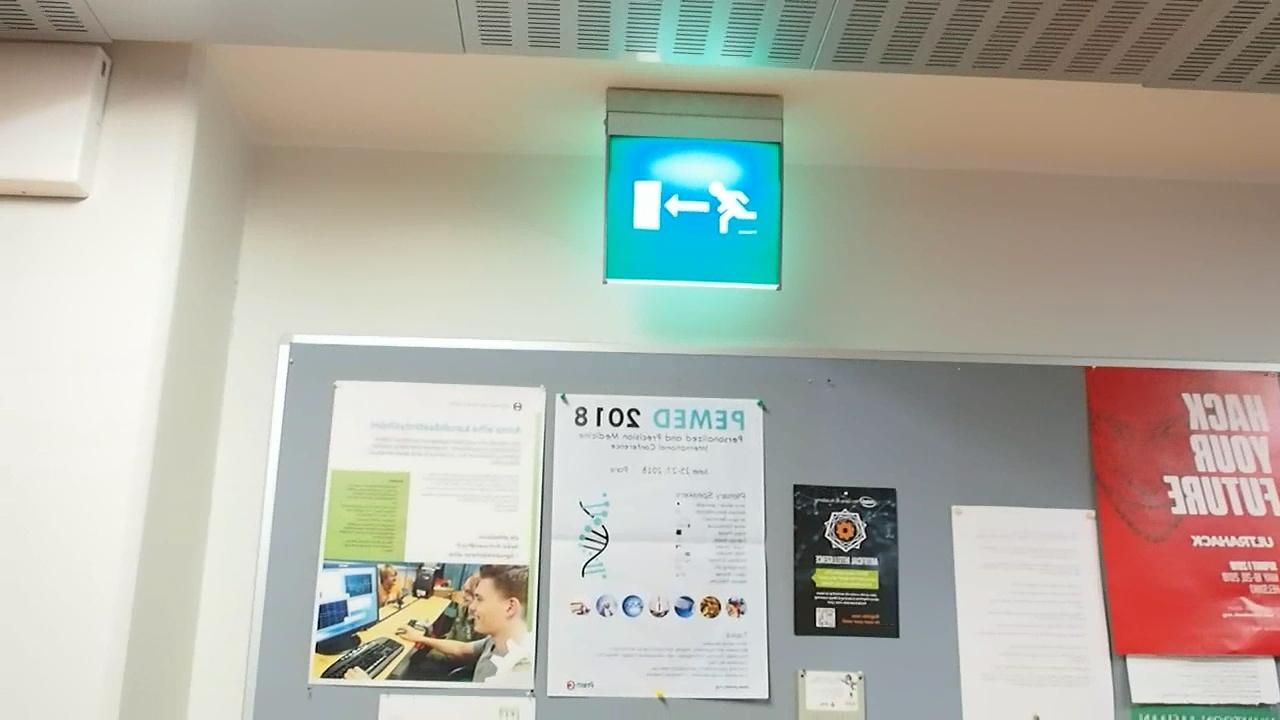exit: (602, 130, 788, 285)
